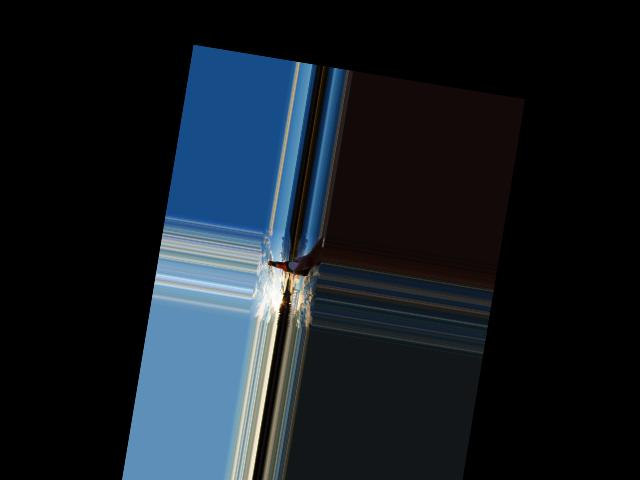beer: (267, 257, 308, 277)
